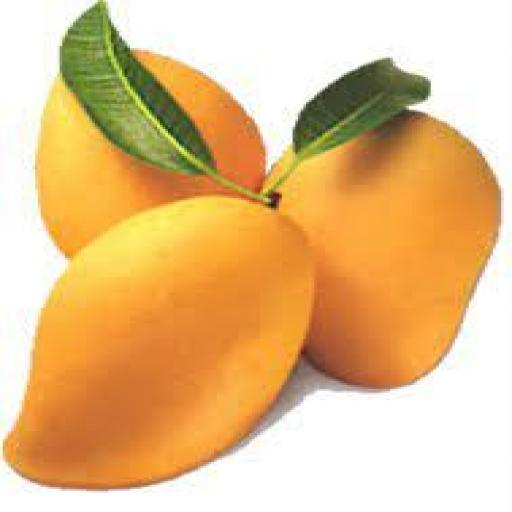mango: (6, 197, 314, 488), (282, 112, 498, 386)
